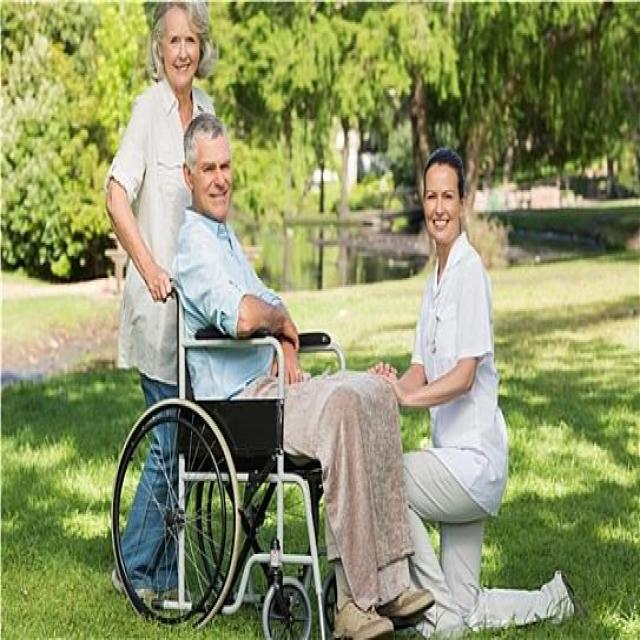wheelchairs: (107, 263, 420, 640)
